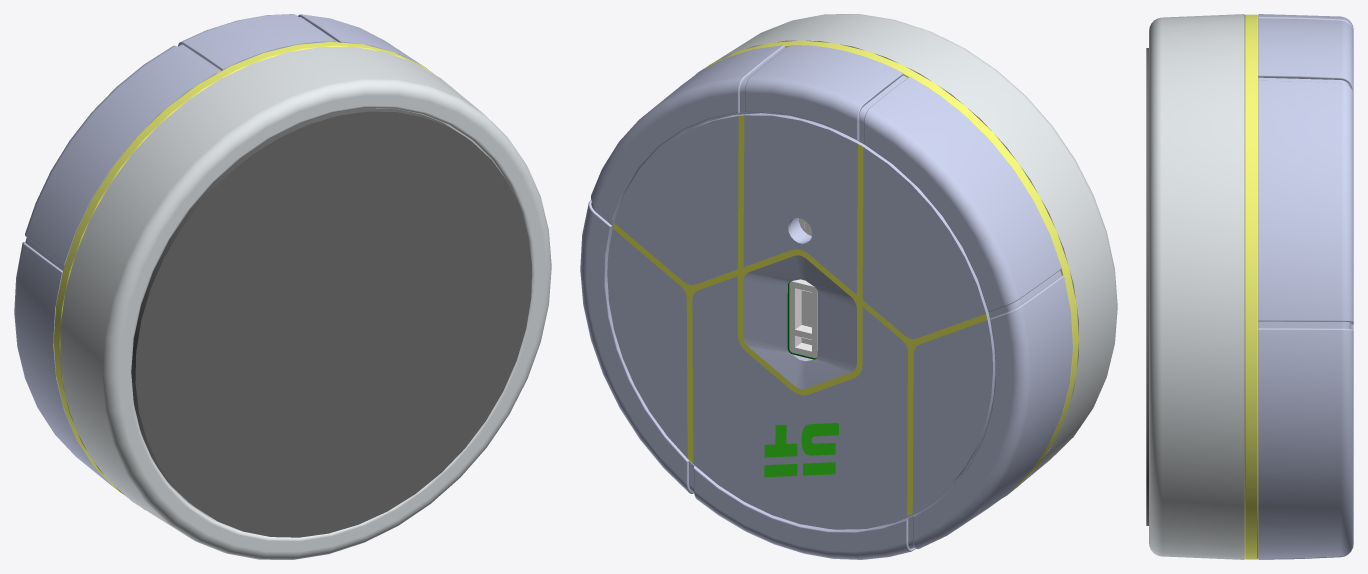
Rendered from source.fbx.
3 views of the same model, side by side, from view 1: azimuth 30°, elevation 25°; view 2: azimuth 150°, elevation 25°; view 3: azimuth 270°, elevation 25° (orthographic). The views are drawn at different scales.
Visible parts, largest first — view 1: 3M_3, 下壳_1, 上壳_2, 银装饰条_4; view 2: 按键 -3_12, 上壳_2, 下壳_1, 零件1^总装_13, 银装饰条_4, 传感器_7, 复件 复件 零件3^总装_5 (×2); view 3: 上壳_2, 下壳_1, 银装饰条_4, 3M_3.
Part boxes in pixels (<box>): 3M_3: <box>131,108,531,537</box>; 下壳_1: <box>60,47,551,559</box>; 上壳_2: <box>14,14,433,487</box>; 银装饰条_4: <box>53,41,452,509</box>; 按键 -3_12: <box>607,113,995,529</box>; 上壳_2: <box>580,45,1072,559</box>; 下壳_1: <box>698,14,1117,497</box>; 零件1^总装_13: <box>613,115,987,516</box>; 银装饰条_4: <box>680,40,1078,490</box>; 传感器_7: <box>789,279,817,358</box>; 复件 复件 零件3^总装_5 (×2): <box>764,423,838,457</box>; 上壳_2: <box>1258,14,1353,559</box>; 下壳_1: <box>1149,14,1244,559</box>; 银装饰条_4: <box>1244,14,1258,559</box>; 3M_3: <box>1146,48,1148,525</box>.
Bounding box in the file's own units: 4 × 4 × 1.52.
